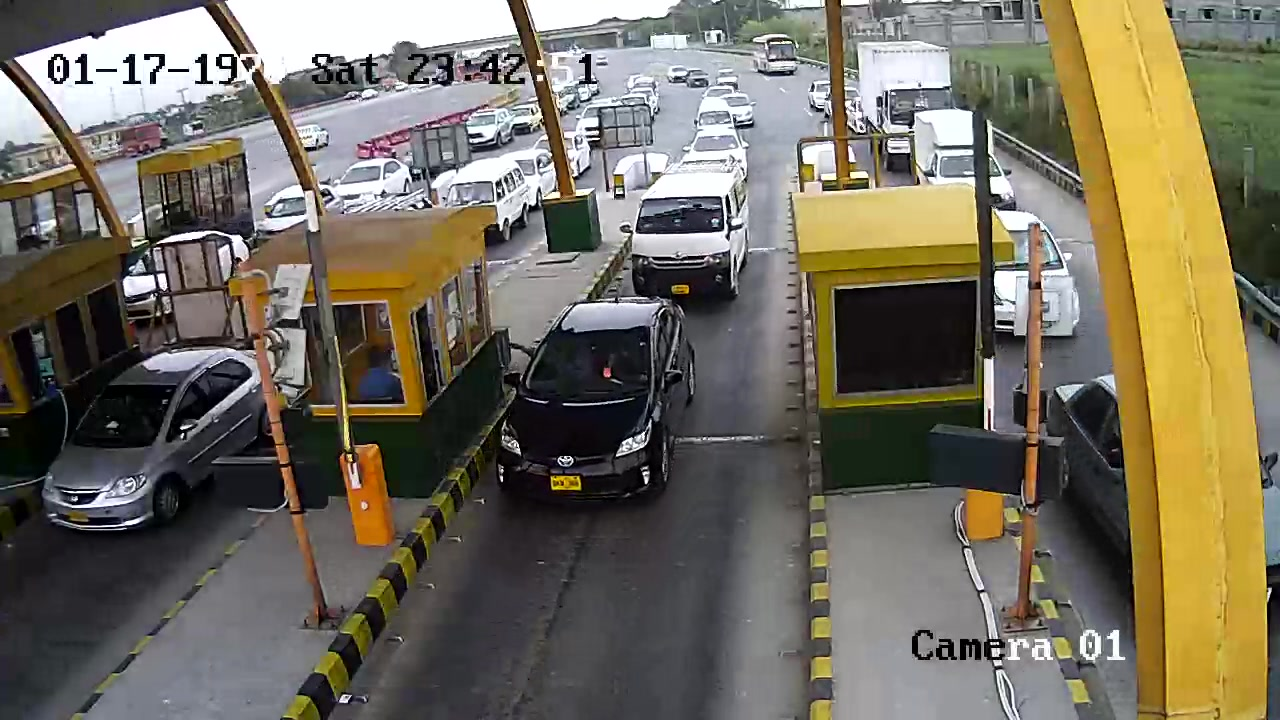F1: (474, 290, 710, 517)
